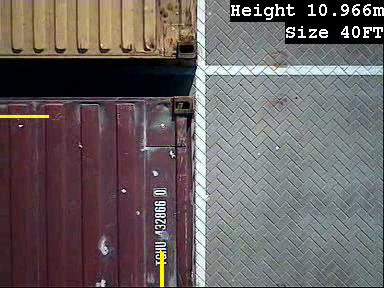groundmarker_2: (103, 140, 171, 182), (97, 1, 165, 41)
